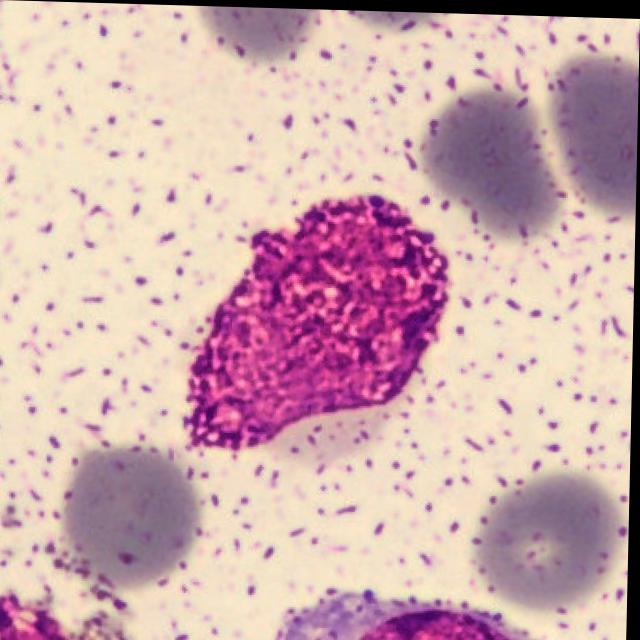Restos celulares: (184, 190, 452, 446)
